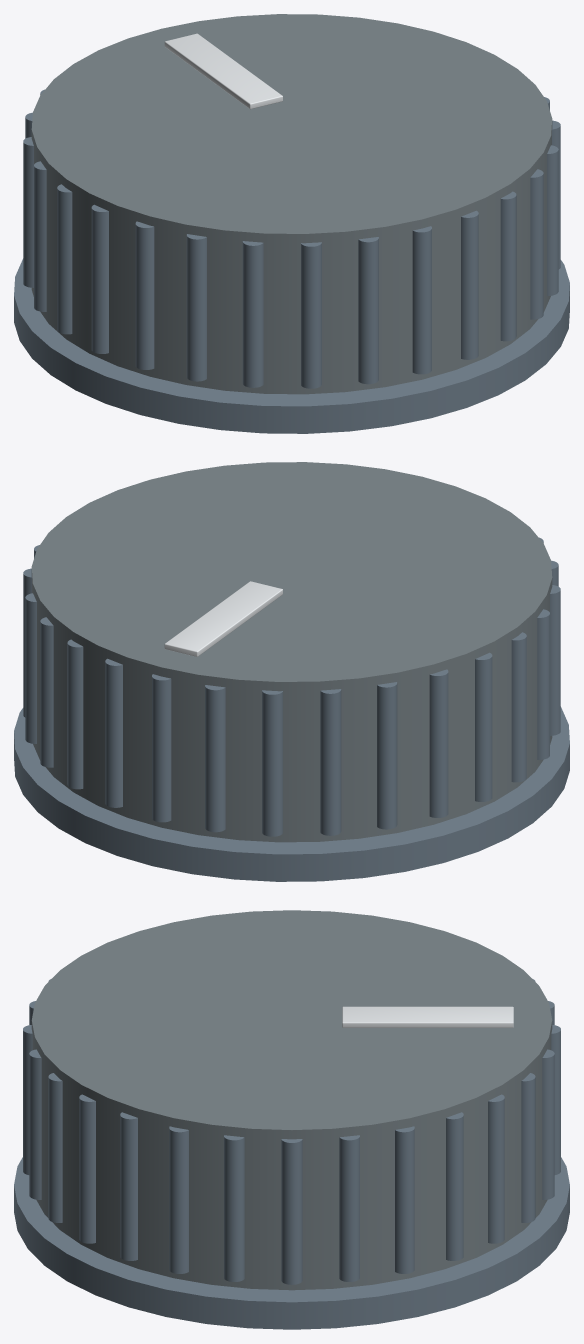
File: OILCAP.glb
3 renders of one model, top to bottom at view 1: azimuth 30°, elevation 25°; view 2: azimuth 150°, elevation 25°; view 3: azimuth 270°, elevation 25°, orthographic.
Parts seen in each view (by area): view 1: OILCAP/0000_grip, OILCAP/0001_flange, OILCAP/0030_index_mark, OILCAP/0020_knurl, OILCAP/0019_knurl, OILCAP/0022_knurl, OILCAP/0021_knurl, OILCAP/0023_knurl, OILCAP/0018_knurl, OILCAP/0024_knurl, OILCAP/0017_knurl, OILCAP/0025_knurl (+6 smaller); view 2: OILCAP/0000_grip, OILCAP/0001_flange, OILCAP/0030_index_mark, OILCAP/0012_knurl, OILCAP/0010_knurl, OILCAP/0013_knurl, OILCAP/0011_knurl, OILCAP/0009_knurl, OILCAP/0014_knurl, OILCAP/0008_knurl, OILCAP/0015_knurl, OILCAP/0007_knurl (+6 smaller); view 3: OILCAP/0000_grip, OILCAP/0001_flange, OILCAP/0030_index_mark, OILCAP/0002_knurl, OILCAP/0003_knurl, OILCAP/0029_knurl, OILCAP/0004_knurl, OILCAP/0028_knurl, OILCAP/0005_knurl, OILCAP/0027_knurl, OILCAP/0006_knurl, OILCAP/0026_knurl (+6 smaller).
Boxes of the visible parts, left/top/right/bottom form: OILCAP/0000_grip: left=31, top=14, right=552, bottom=394; OILCAP/0001_flange: left=14, top=258, right=569, bottom=433; OILCAP/0030_index_mark: left=164, top=33, right=282, bottom=109; OILCAP/0020_knurl: left=242, top=241, right=263, bottom=387; OILCAP/0019_knurl: left=186, top=234, right=206, bottom=381; OILCAP/0022_knurl: left=358, top=237, right=378, bottom=384; OILCAP/0021_knurl: left=301, top=242, right=321, bottom=388; OILCAP/0023_knurl: left=412, top=226, right=431, bottom=374; OILCAP/0018_knurl: left=135, top=221, right=154, bottom=369; OILCAP/0024_knurl: left=461, top=210, right=478, bottom=359; OILCAP/0017_knurl: left=91, top=204, right=108, bottom=353; OILCAP/0025_knurl: left=500, top=191, right=516, bottom=341; OILCAP/0000_grip: left=31, top=462, right=552, bottom=842; OILCAP/0001_flange: left=14, top=706, right=569, bottom=881; OILCAP/0030_index_mark: left=164, top=581, right=282, bottom=656; OILCAP/0012_knurl: left=320, top=689, right=341, bottom=835; OILCAP/0010_knurl: left=205, top=685, right=225, bottom=832; OILCAP/0013_knurl: left=377, top=682, right=397, bottom=829; OILCAP/0011_knurl: left=262, top=690, right=282, bottom=836; OILCAP/0009_knurl: left=152, top=674, right=171, bottom=822; OILCAP/0014_knurl: left=429, top=669, right=448, bottom=817; OILCAP/0008_knurl: left=105, top=658, right=122, bottom=807; OILCAP/0015_knurl: left=475, top=652, right=492, bottom=801; OILCAP/0007_knurl: left=67, top=639, right=83, bottom=789; OILCAP/0000_grip: left=31, top=910, right=552, bottom=1290; OILCAP/0001_flange: left=14, top=1157, right=569, bottom=1329; OILCAP/0030_index_mark: left=342, top=1006, right=513, bottom=1027; OILCAP/0002_knurl: left=281, top=1139, right=302, bottom=1284; OILCAP/0003_knurl: left=339, top=1135, right=359, bottom=1281; OILCAP/0029_knurl: left=224, top=1135, right=244, bottom=1281; OILCAP/0004_knurl: left=395, top=1126, right=414, bottom=1273; OILCAP/0028_knurl: left=169, top=1126, right=188, bottom=1273; OILCAP/0005_knurl: left=446, top=1112, right=463, bottom=1260; OILCAP/0027_knurl: left=120, top=1112, right=137, bottom=1260; OILCAP/0006_knurl: left=488, top=1094, right=504, bottom=1243; OILCAP/0026_knurl: left=79, top=1094, right=95, bottom=1243.
Bounding box in the file's own units: 0.0705 × 0.0277 × 0.0705.
